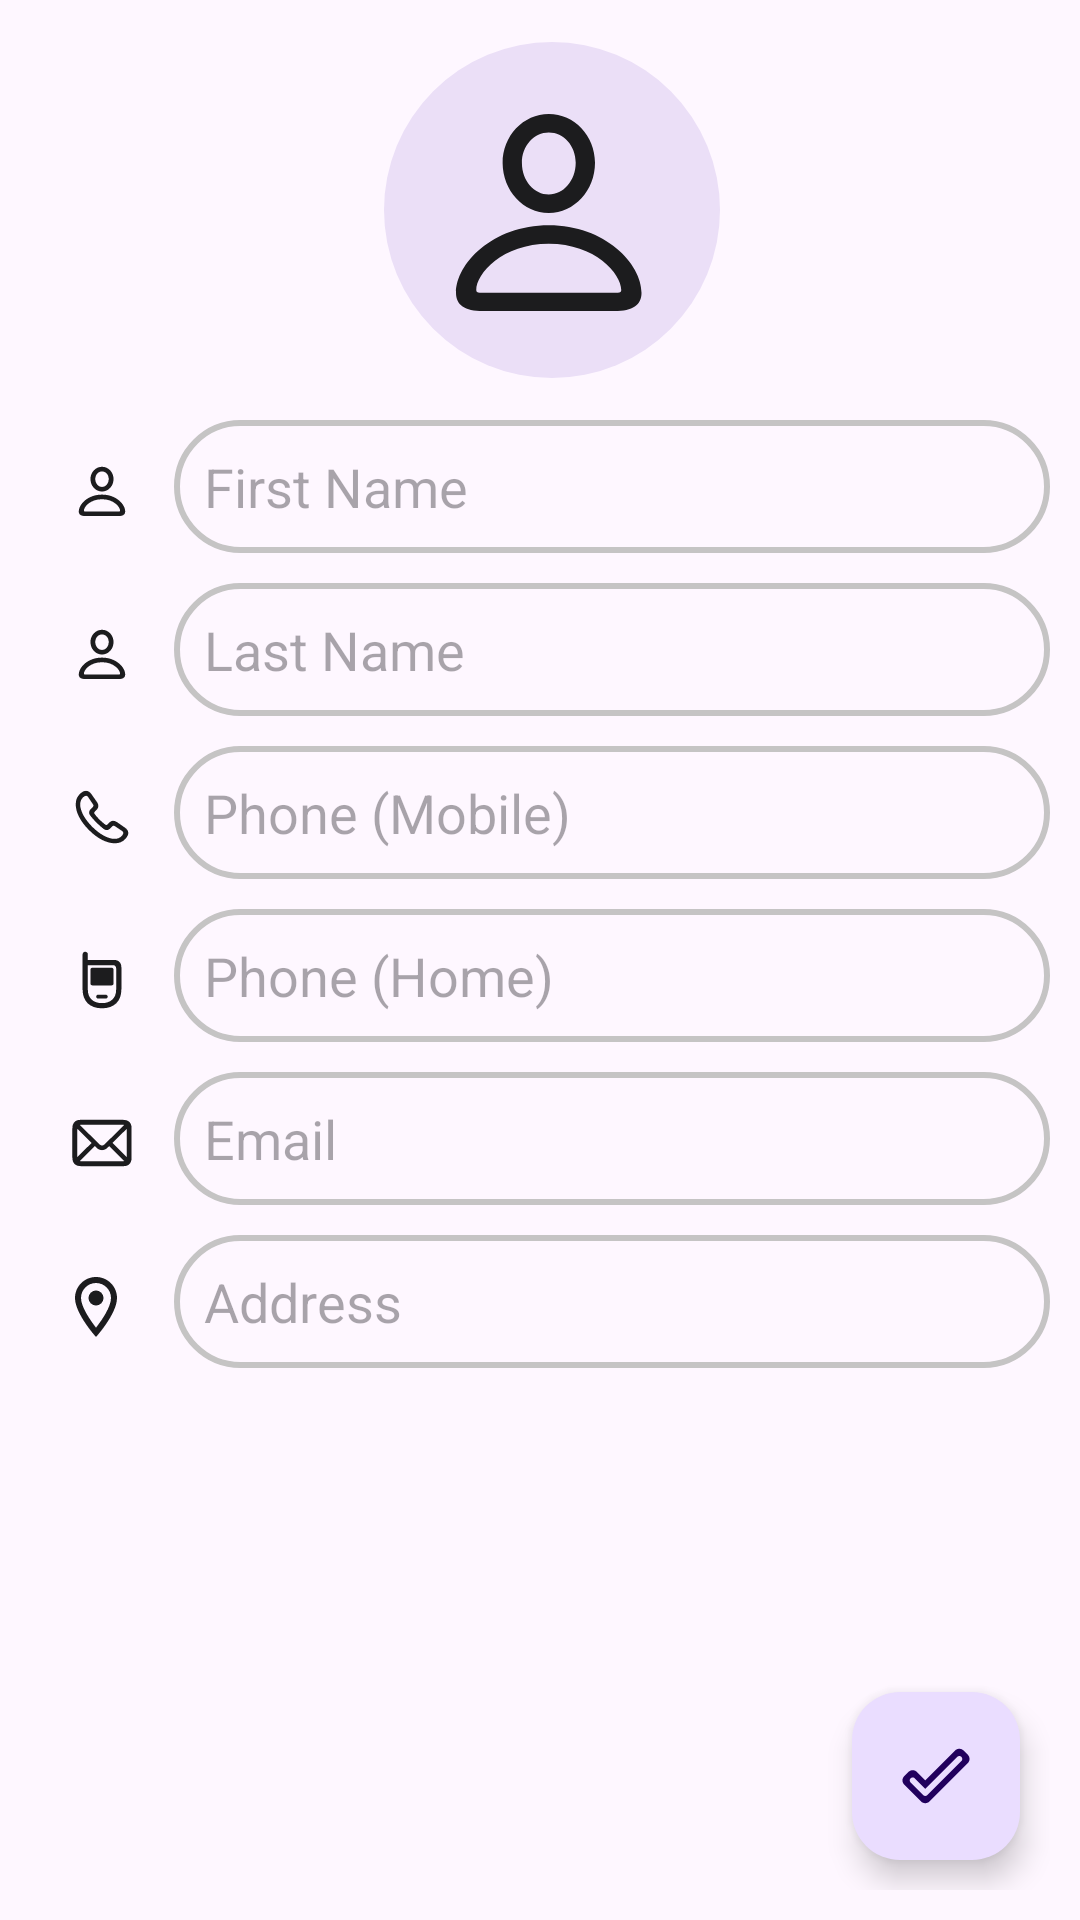

Icons on this 1080×1920 Android screen, each with the point to tap as (x=x, y=y):
done: (x=936, y=1776)
envelope: (x=102, y=1143)
flipphone: (x=102, y=980)
location on: (x=96, y=1307)
person: (x=102, y=491), (x=102, y=654)
